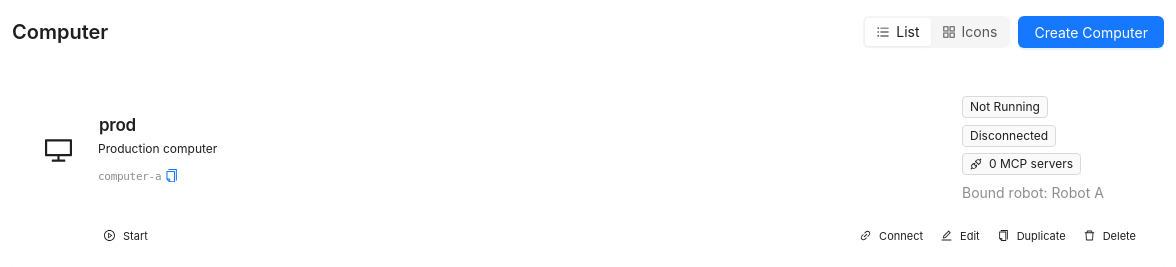
Test: Computer › keeps Runtime action technical errors out of the ordinary Computer UI
Click the button "Start".
click(126, 236)  # box [98,222,154,250]
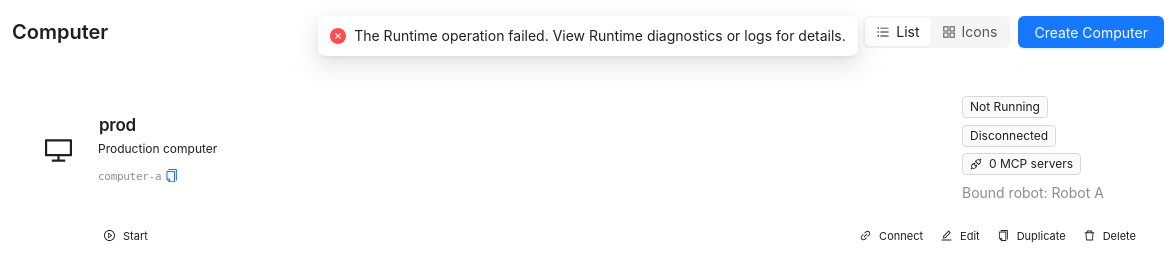
expect the text "The Runtime operation failed. View Runtime diagnostics or logs for details." is shown: met, box [354,25,846,47]
